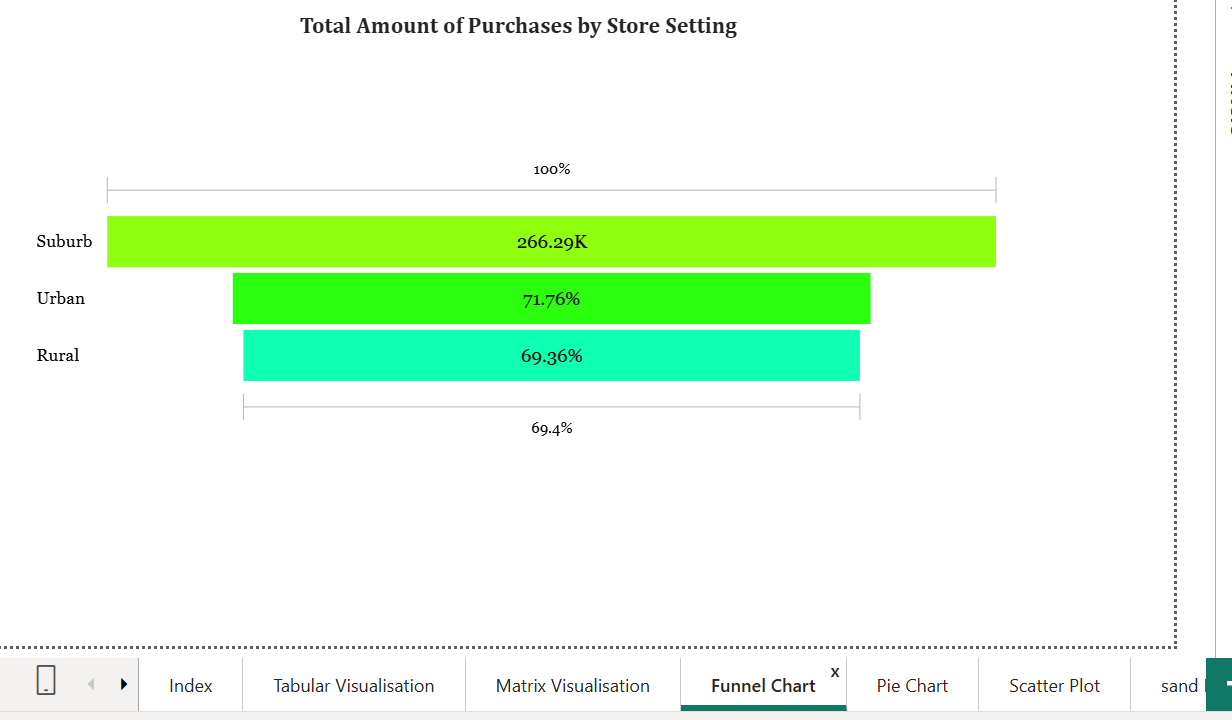

This screenshot's page, from the dashboard's own definition file:
{"tool":"powerbi","page":{"name":"Funnel Chart","canvas":[1280,720],"ordinal":3},"visuals":[{"type":"funnel","title":" Total Amount of Purchases by Store Setting","fields":{"Category":["Student Survey.Store Setting"],"Y":["Sum(Student Survey.Total Amount of Purchases)"]},"box":[9.7,0,1050.9,589.4],"z":0}]}

Visuals, with their boxes on the page's 1280x720 design canvas (x1, y1, x2, y2). These are canvas units, not pixel positions in the 1232x720 screenshot, which may show the page scaled, cropped or inside an application window:
" Total Amount of Purchases by Store Setting" funnel: (10,0,1061,589)
